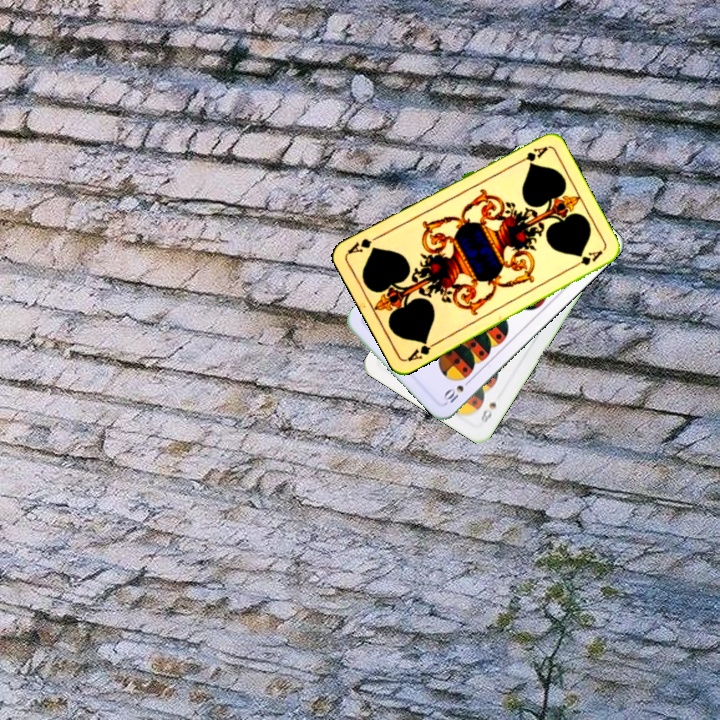GA: (403, 336, 441, 364), (512, 142, 550, 167)
S10: (439, 375, 474, 406)
S8: (477, 398, 499, 428)
